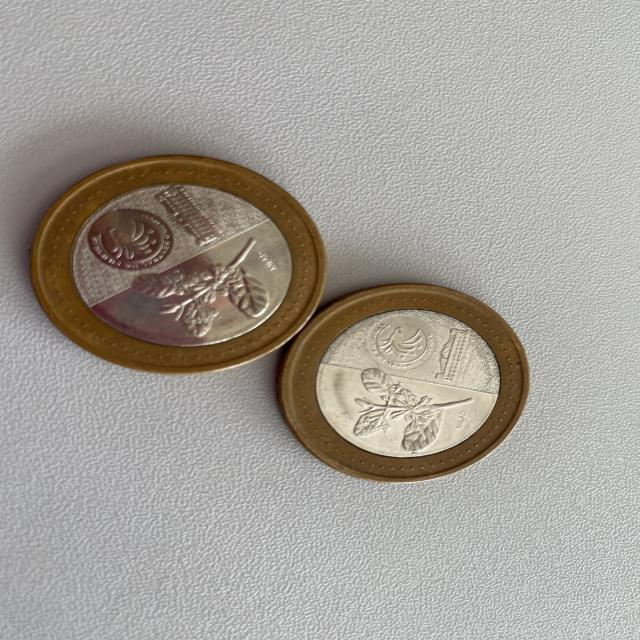20_New_Back: (131, 240, 265, 334), (348, 368, 475, 454)
